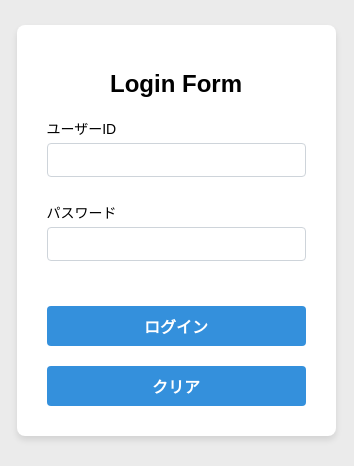
Scenario: [ログイン-異常系]ログインができないこと › 2-3:IDが未入力だった場合
In the password field labelled "パスワード": (176, 244) [46,226,306,260], type "123456"
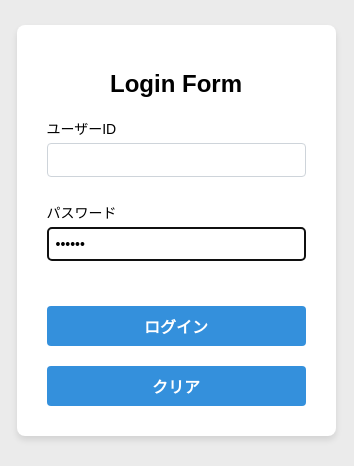
# ログインボタン押下
Click the button "ログイン": (176, 326) [46,306,306,346]
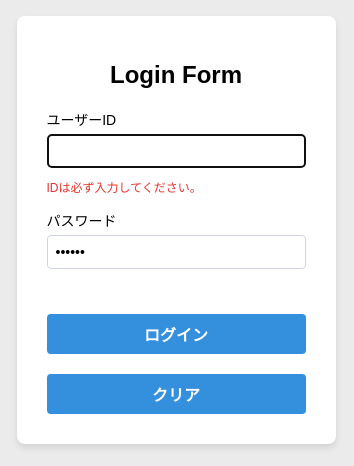
Result: the text "IDは必ず入力してください。" is shown at [46,181,202,195]
